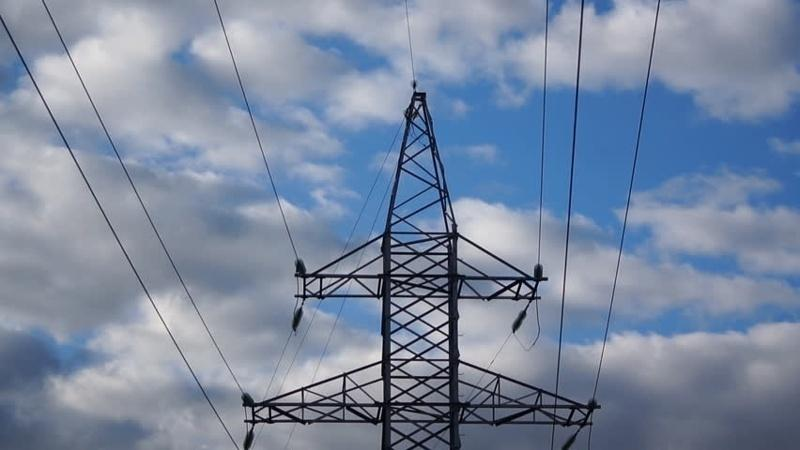power_tower: (243, 98, 589, 444)
